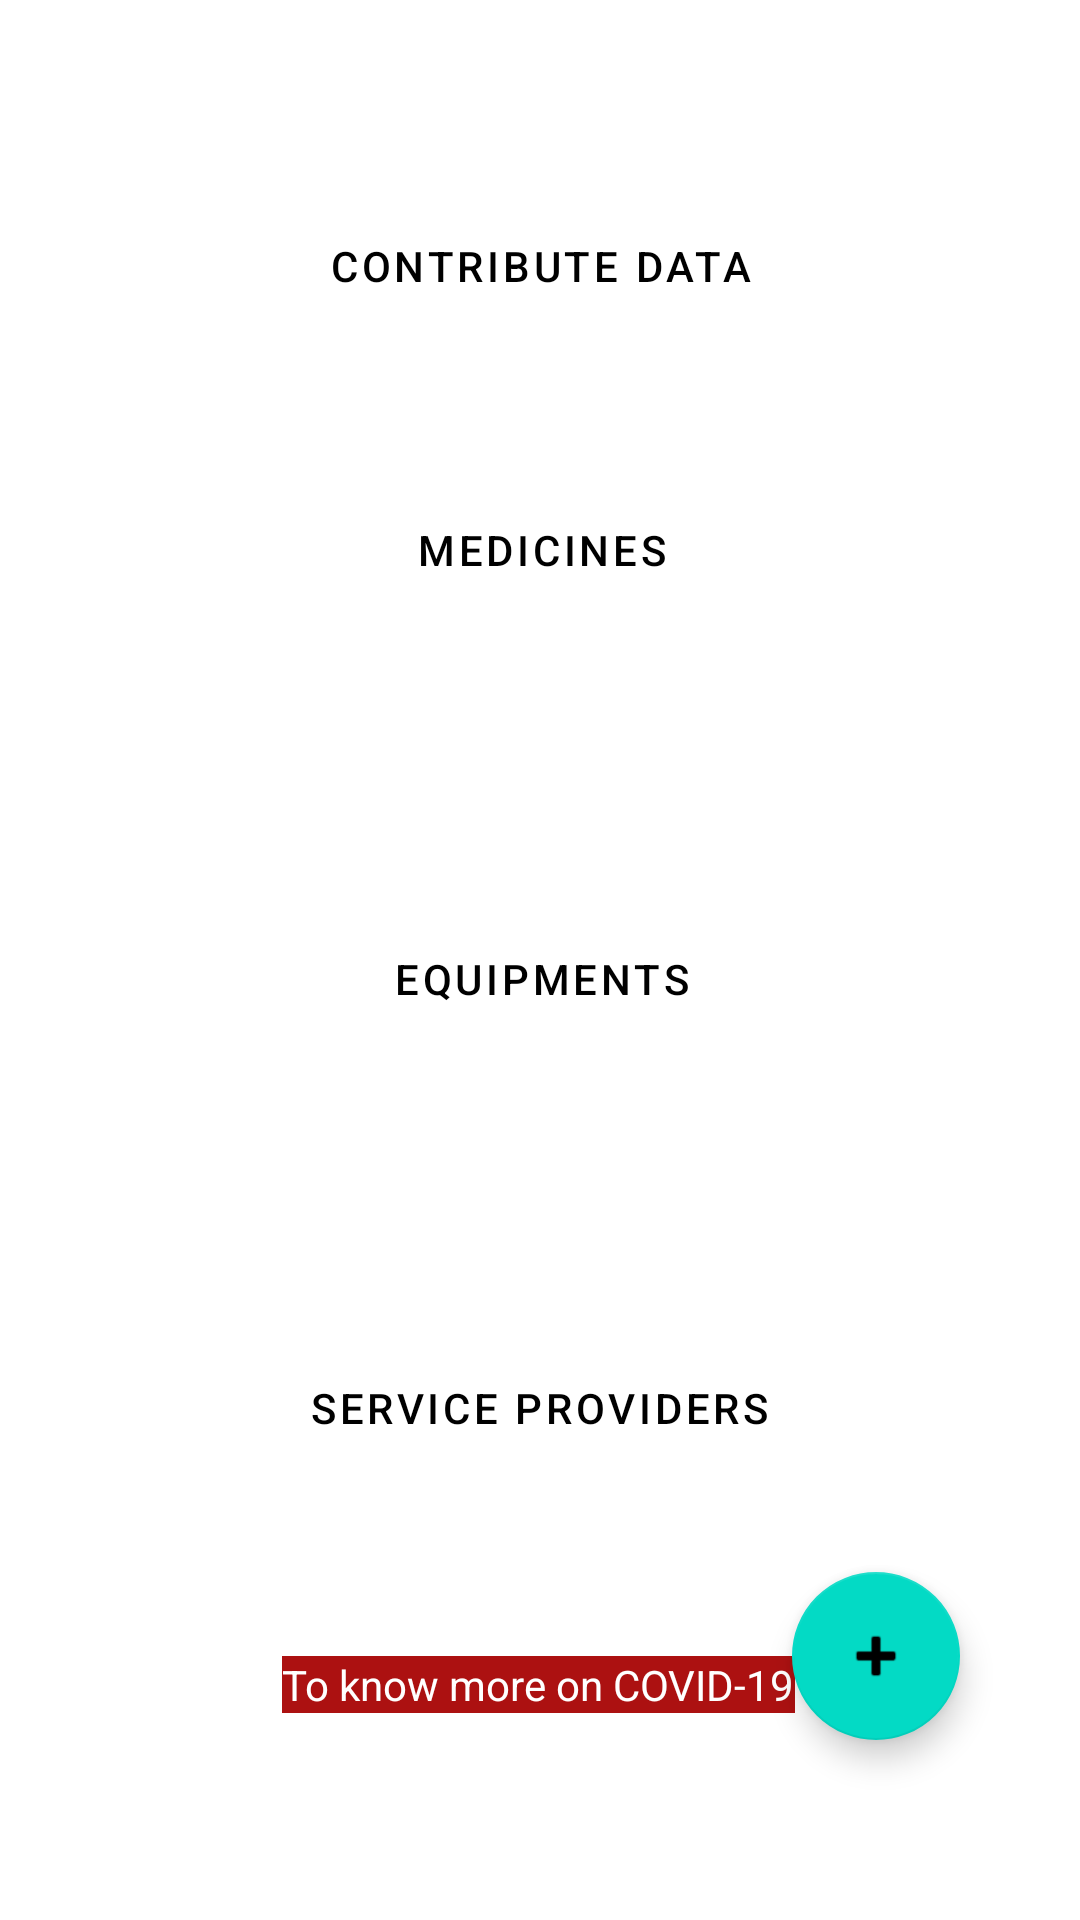

Screen size 1080×1920. Icon name, then its center in pixels as [x,y]:
Contribute Data: [876,1656]
